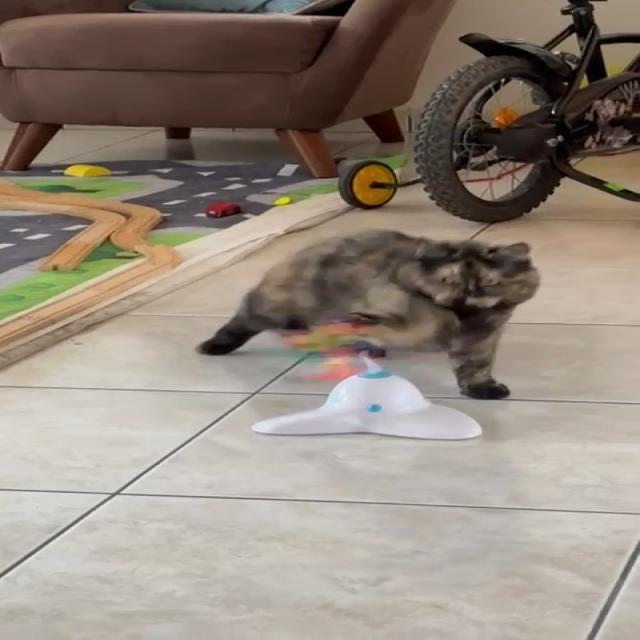authorized: (193, 227, 540, 400)
